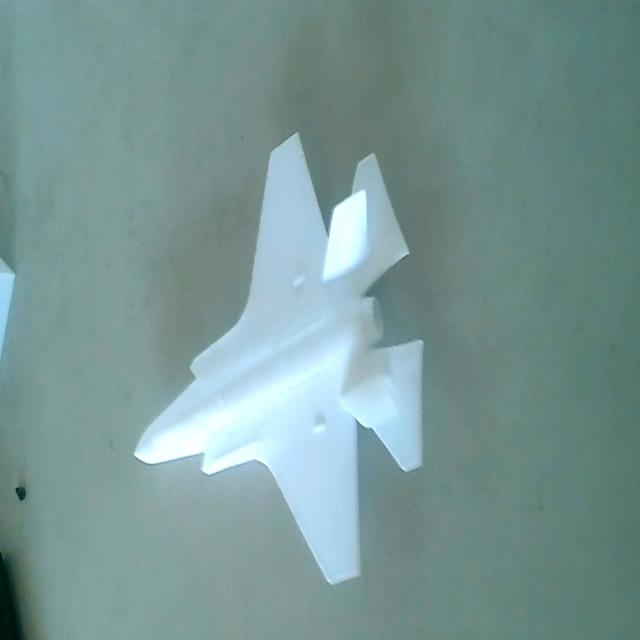Jet: (134, 132, 430, 598)
